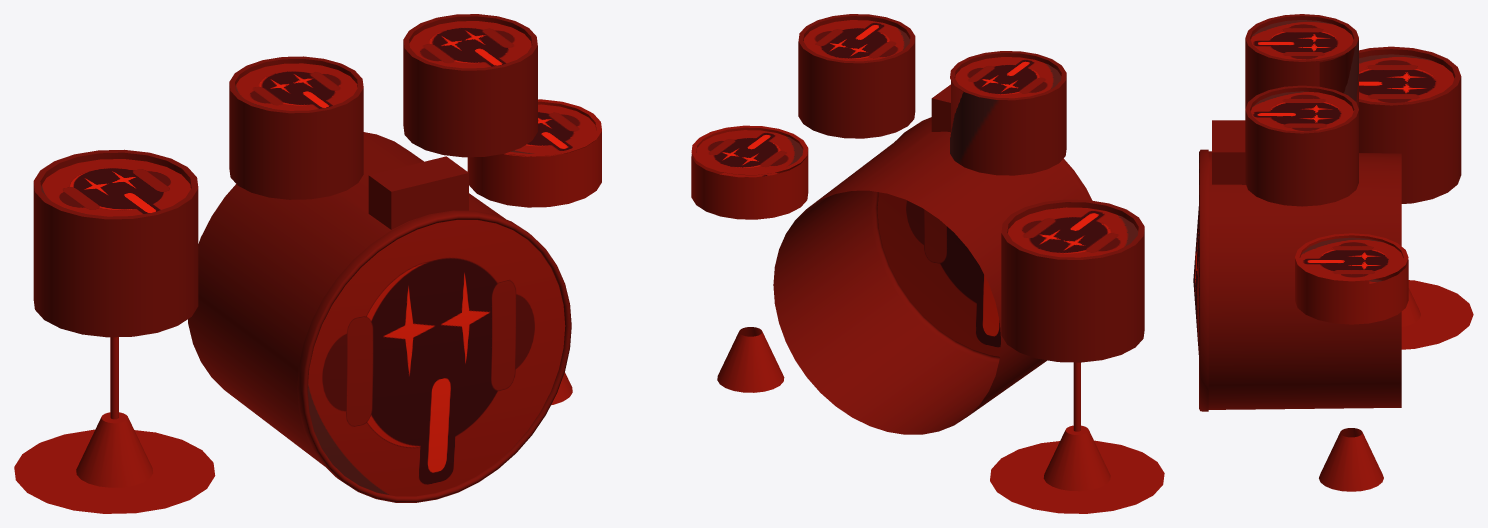
File: Drums.fbx
3 renders of one model, left to right at view 1: azimuth 30°, elevation 25°; view 2: azimuth 150°, elevation 25°; view 3: azimuth 270°, elevation 25°, orthographic. The views are drawn at different scales.
Visible parts, largest first — view 1: polySurface3, pCylinder6, pCylinder4, pCylinder5, polySurface4, pCylinder7; view 2: polySurface3, pCylinder6, pCylinder5, pCylinder4, polySurface4, pCylinder7, polySurface6; view 3: polySurface3, pCylinder6, pCylinder5, pCylinder7, pCylinder4, polySurface4, polySurface6.
Boxes of the visible parts, x1,y1,x2,y2 form: polySurface3: (188, 132, 571, 502); pCylinder6: (33, 149, 198, 337); pCylinder4: (229, 56, 363, 199); pCylinder5: (403, 14, 537, 157); polySurface4: (14, 337, 215, 513); pCylinder7: (467, 99, 601, 207); polySurface3: (773, 84, 1092, 434); pCylinder6: (1001, 199, 1144, 362); pCylinder5: (798, 14, 915, 138); pCylinder4: (950, 51, 1066, 175); polySurface4: (990, 362, 1164, 513); pCylinder7: (691, 125, 808, 219); polySurface6: (717, 327, 784, 392); polySurface3: (1193, 120, 1401, 411); pCylinder6: (1359, 46, 1461, 203); pCylinder5: (1245, 85, 1358, 206); pCylinder7: (1295, 233, 1408, 324); pCylinder4: (1245, 14, 1358, 108); polySurface4: (1401, 280, 1473, 349); polySurface6: (1319, 428, 1383, 491).
Bounding box in the file's own units: 26.97 × 17.66 × 13.58.
1 material, 1 textured.
